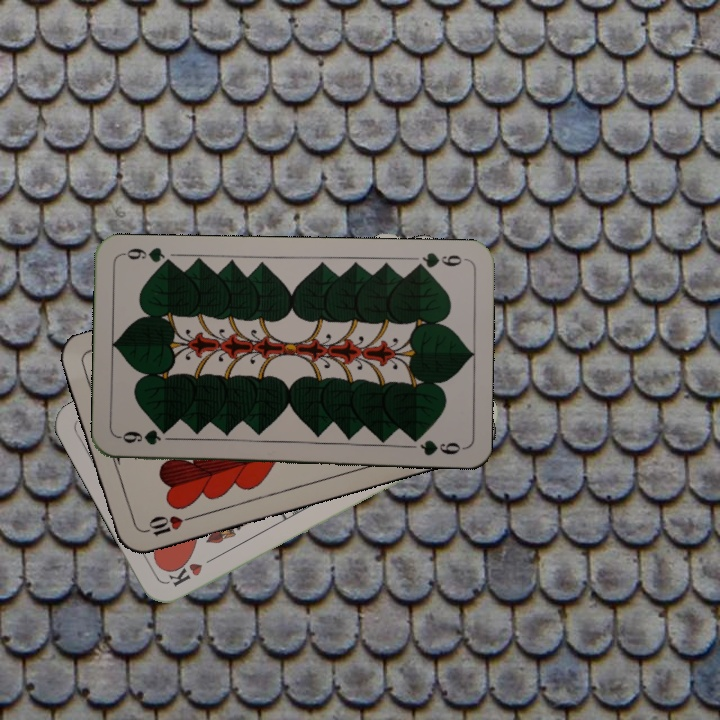G9: (409, 248, 468, 273), (116, 427, 175, 448)
H10: (136, 511, 195, 539)
HK: (164, 551, 220, 589)
